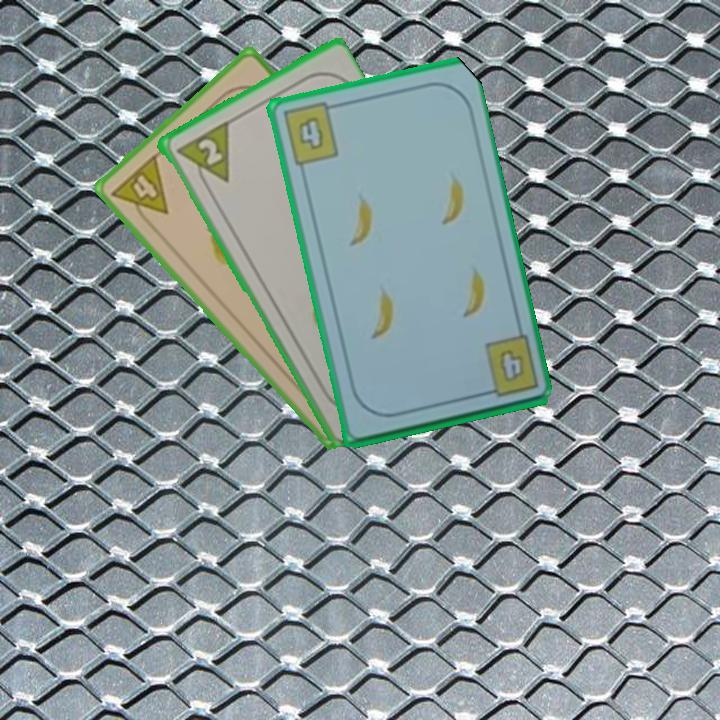2p: (172, 118, 233, 195)
4b: (476, 332, 541, 401), (279, 99, 341, 169)
4p: (107, 150, 171, 231)
